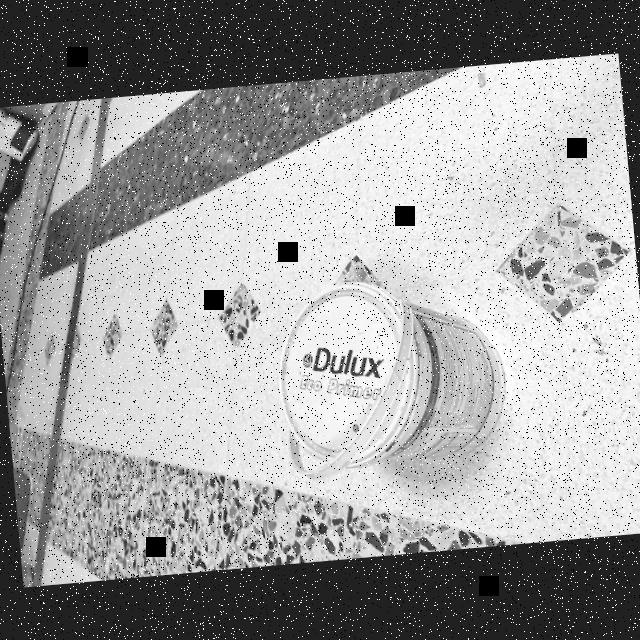paint_bucket: (252, 268, 518, 503)
